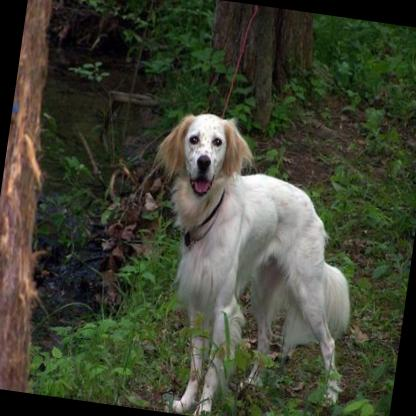English_setter: (123, 97, 379, 416)
